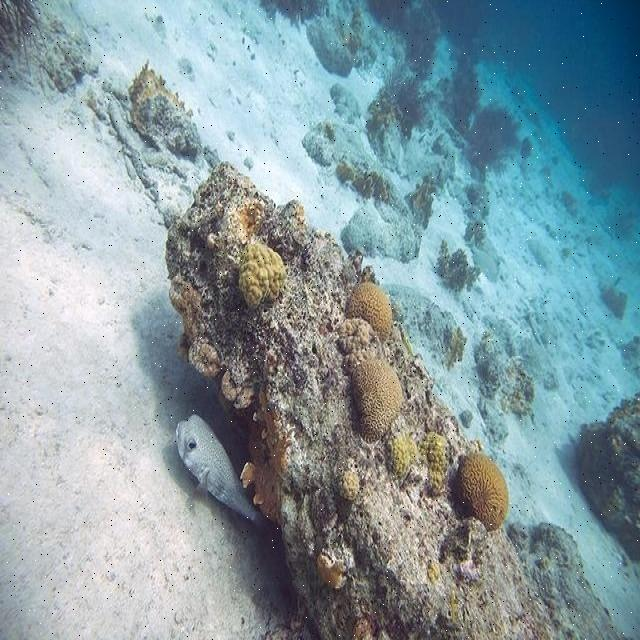fish: (177, 414, 274, 543)
reefs: (351, 359, 403, 443), (457, 454, 509, 531), (239, 240, 288, 306), (346, 283, 393, 334)
sea-floor: (165, 160, 611, 639)
